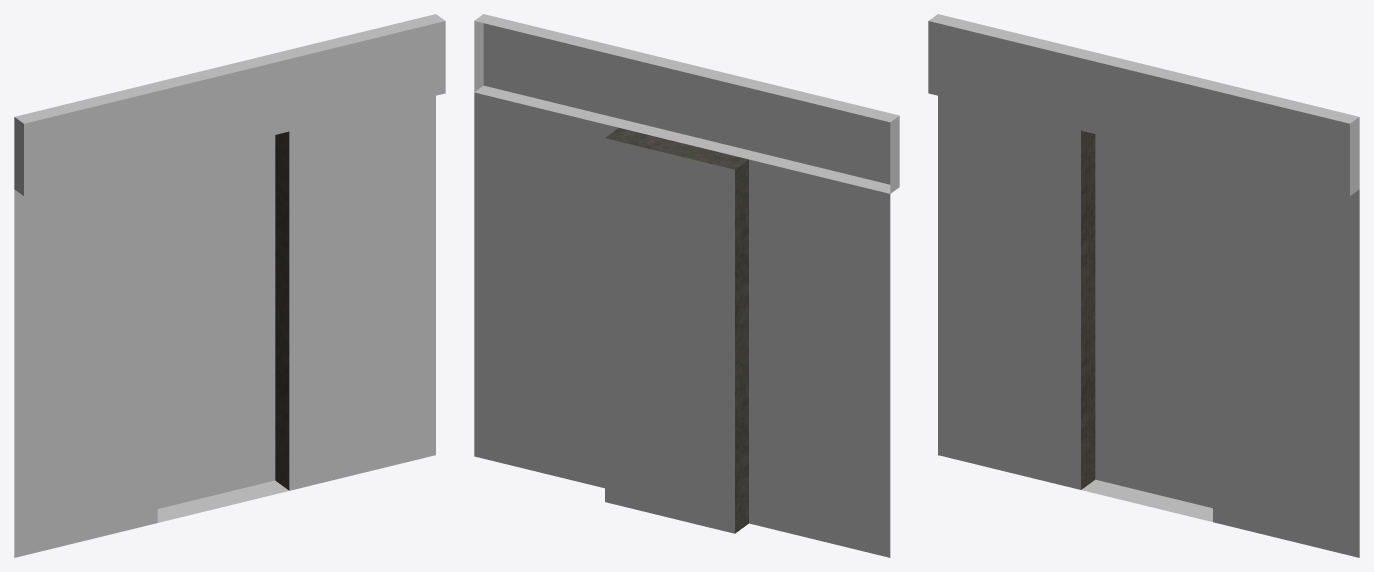
File: CT_door_03.fbx
The picture shows the model from 3 angles, left to right: view 1: azimuth 30°, elevation 25°; view 2: azimuth 150°, elevation 25°; view 3: azimuth 330°, elevation 25°; orthographic projection.
Visible parts, largest first — view 1: CT_door_03; view 2: CT_door_03; view 3: CT_door_03.
Boxes of the visible parts, x1=… form: CT_door_03: x1=14, y1=14, x2=445, y2=557; CT_door_03: x1=474, y1=14, x2=899, y2=557; CT_door_03: x1=928, y1=14, x2=1359, y2=557.
Bounding box in the file's own units: 256 × 256 × 25.
